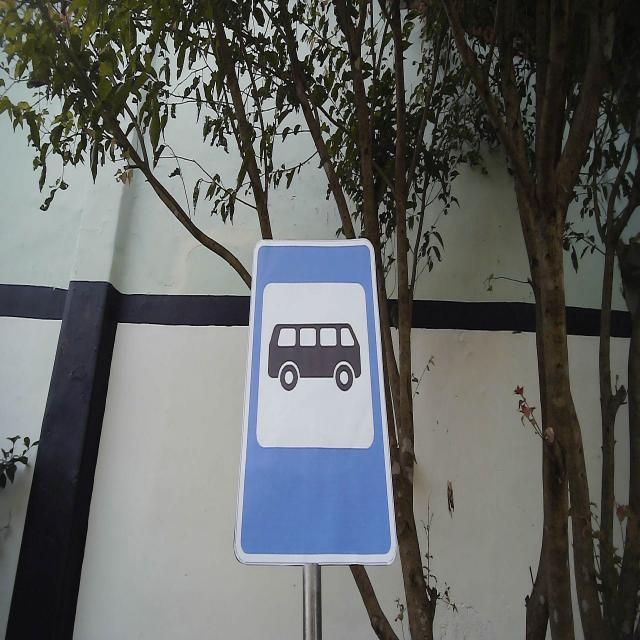bus_stop: (232, 236, 398, 567)
